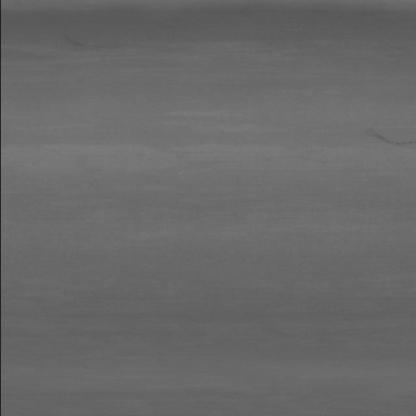water_spot: (336, 126, 415, 159)
